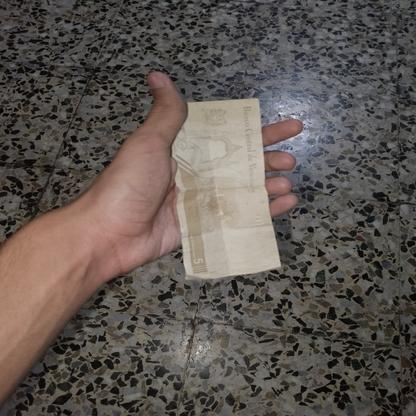five-back-vef: (172, 98, 282, 280)
